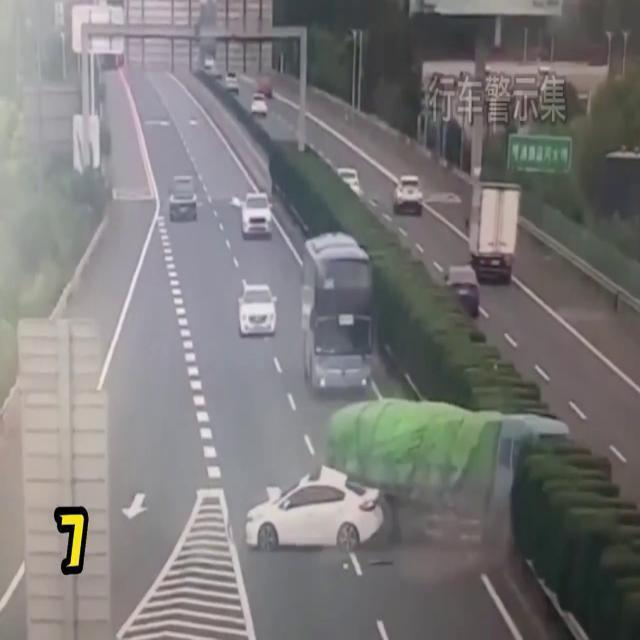accident: (243, 398, 572, 576)
non-accident: (238, 235, 374, 395), (391, 172, 523, 322), (166, 173, 274, 243), (234, 190, 278, 338), (222, 70, 274, 120)
